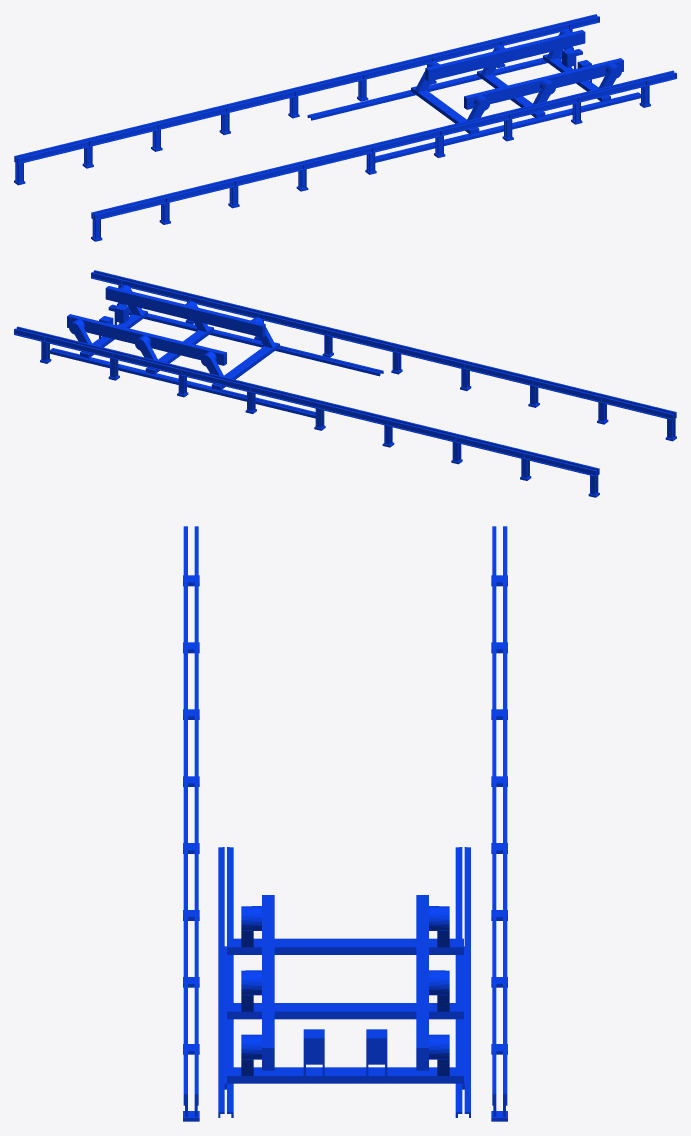
The model's file is SawingEntrySystem.obj.
3 views of the same model, one above another, from view 1: azimuth 30°, elevation 25°; view 2: azimuth 150°, elevation 25°; view 3: azimuth 270°, elevation 25° (orthographic). The views are drawn at different scales.
Visible parts, largest first — view 1: Sawing_Entery_System_Assembly_v1.001; view 2: Sawing_Entery_System_Assembly_v1.001; view 3: Sawing_Entery_System_Assembly_v1.001.
Part boxes in pixels (x1,y1,x2,y2): Sawing_Entery_System_Assembly_v1.001: (14,14,676,241); Sawing_Entery_System_Assembly_v1.001: (14,270,676,497); Sawing_Entery_System_Assembly_v1.001: (183,526,507,1121).
Bounding box in the file's own units: 580 × 31.68 × 140.
